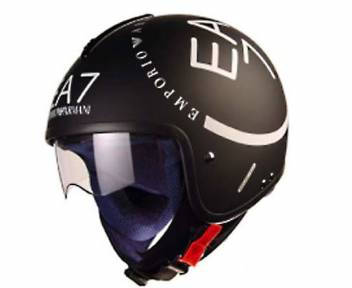helmet: (38, 21, 281, 249)
